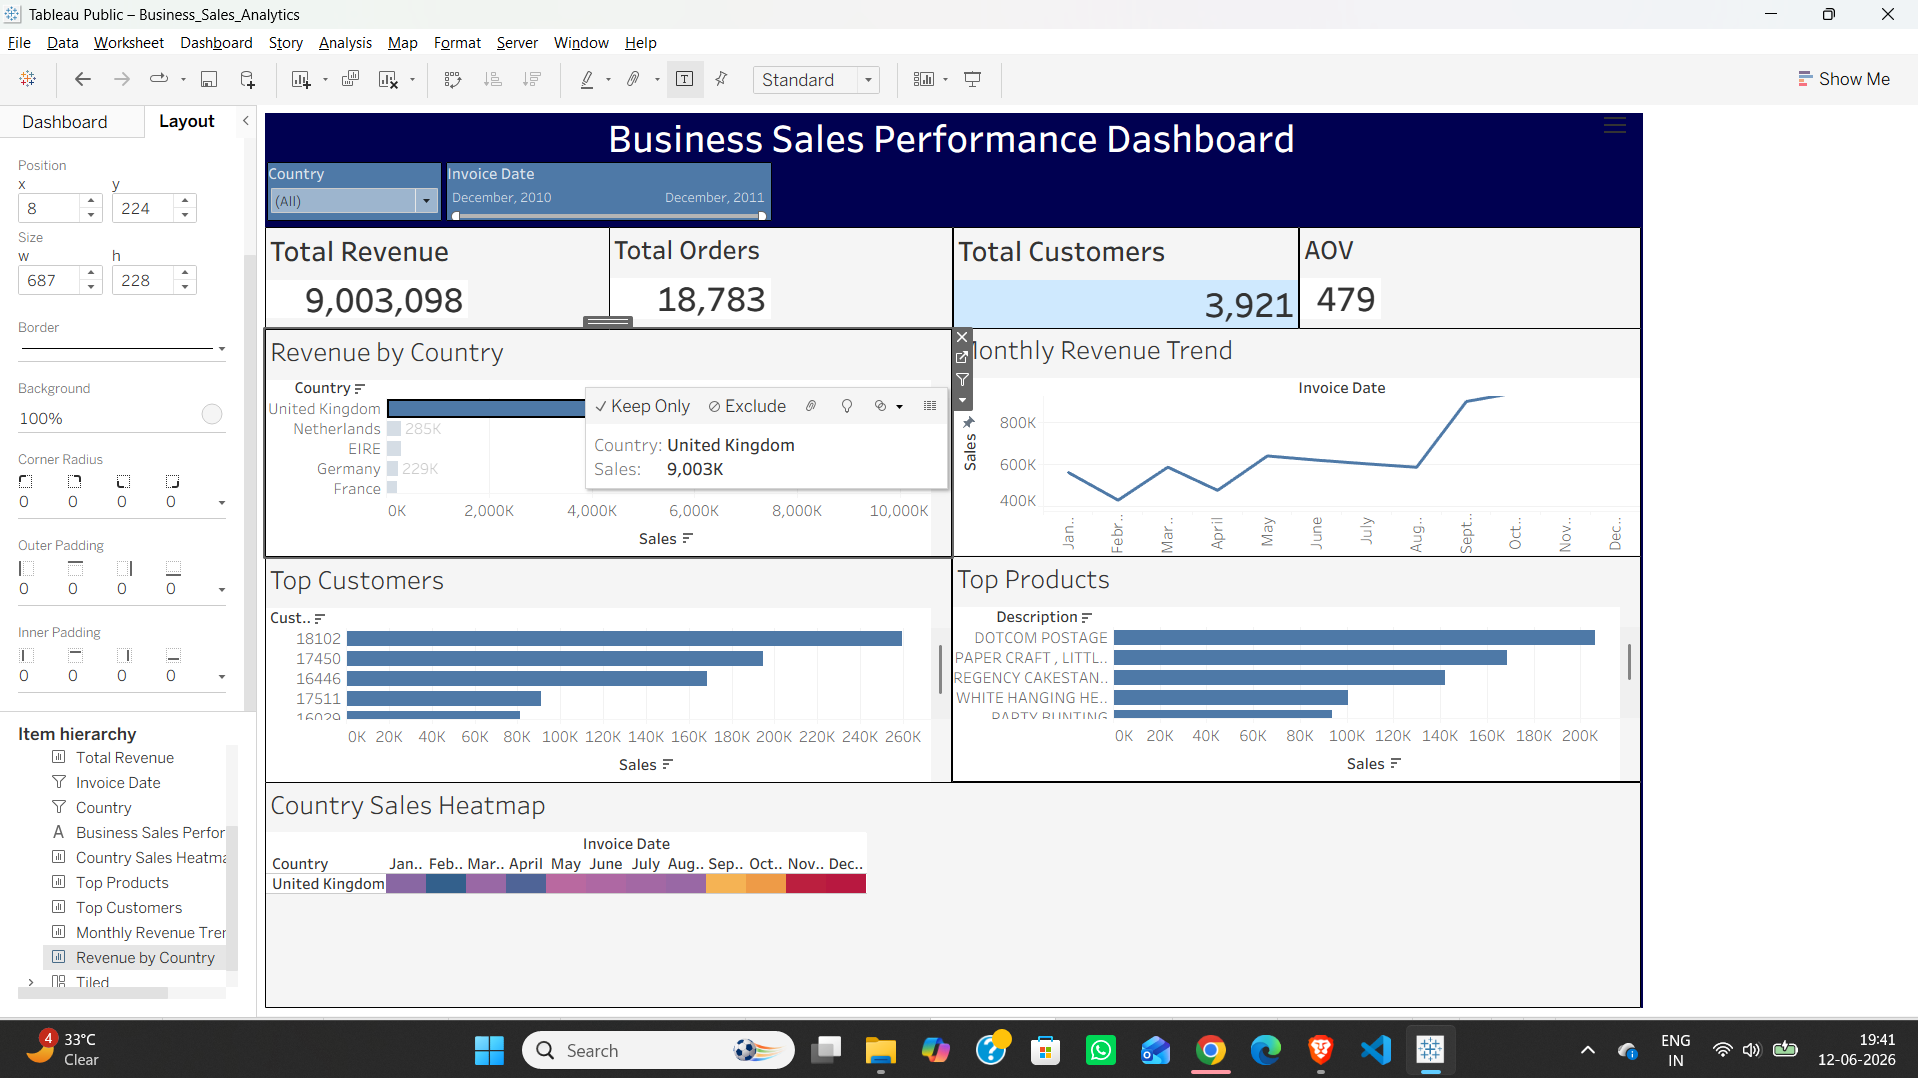

The dashboard page shown, as its layout file describes it:
{"tool":"tableau","page":{"name":"Dashboard 1","canvas":[1000,1000],"units":"permille","ordinal":0},"visuals":[{"type":"dashboard-object","box":[809.9,8.8,14.4,26.3]},{"type":"legend","title":"Country Sales Heatmap","param":"[federated.1iuu4250a9fq8915g2f7b0snzc5n].[sum:Calculation_1728168453922816:qk]","box":[833.9,8.8,161.3,80.1]},{"type":"text","box":[183.5,12.1,468.7,47.2]},{"type":"filter","title":"Revenue by Country","param":"[federated.1iuu4250a9fq8915g2f7b0snzc5n].[none:Country:nk]","box":[6,62.6,105,64.8]},{"type":"filter","title":"Revenue by Country","param":"[federated.1iuu4250a9fq8915g2f7b0snzc5n].[none:InvoiceDate:qk]","box":[113.5,62.6,196.3,64.8]},{"type":"worksheet","title":"Total Revenue","mark":"Automatic","box":[4.8,133.9,207.6,113.1]},{"type":"worksheet","title":"Total Orders","mark":"Automatic","box":[211.8,133.9,207,113.1]},{"type":"worksheet","title":"Total Customers","mark":"Automatic","box":[419,133.9,208.3,112]},{"type":"worksheet","title":"AOV","mark":"Automatic","box":[627,133.9,205.8,112]},{"type":"worksheet","title":"Monthly Revenue Trend","mark":"Automatic","rows":["Calculation_1728168453922816"],"cols":["InvoiceDate"],"box":[417.6,243.7,415.2,252.5]},{"type":"worksheet","title":"Revenue by Country","mark":"Automatic","rows":["Country"],"cols":["Calculation_1728168453922816"],"box":[4.8,245.9,413.4,250.3]},{"type":"worksheet","title":"Top Products","mark":"Automatic","rows":["Description"],"cols":["Calculation_1728168453922816"],"box":[418.4,495.1,414.8,248.1]},{"type":"worksheet","title":"Top Customers","mark":"Automatic","rows":["CustomerID"],"cols":["Calculation_1728168453922816"],"box":[4.8,496.2,413.4,248.1]},{"type":"worksheet","title":"Country Sales Heatmap","mark":"Automatic","rows":["Country"],"cols":["InvoiceDate"],"box":[4.8,743.1,827.8,248.1]}]}

Visuals, with their boxes on the dashboard's canvas, which has no fixed pixel size, in thousandths of its width and height (x1, y1, x2, y2). These are canvas units, not pixel positions in the 1918x1078 screenshot, which may show the page scaled, cropped or inside an application window:
dashboard-object: BBox(810, 9, 824, 35)
"Country Sales Heatmap" legend: BBox(834, 9, 995, 89)
text: BBox(184, 12, 652, 59)
"Revenue by Country" filter: BBox(6, 63, 111, 127)
"Revenue by Country" filter: BBox(114, 63, 310, 127)
"Total Revenue" worksheet: BBox(5, 134, 212, 247)
"Total Orders" worksheet: BBox(212, 134, 419, 247)
"Total Customers" worksheet: BBox(419, 134, 627, 246)
"AOV" worksheet: BBox(627, 134, 833, 246)
"Monthly Revenue Trend" worksheet: BBox(418, 244, 833, 496)
"Revenue by Country" worksheet: BBox(5, 246, 418, 496)
"Top Products" worksheet: BBox(418, 495, 833, 743)
"Top Customers" worksheet: BBox(5, 496, 418, 744)
"Country Sales Heatmap" worksheet: BBox(5, 743, 833, 991)
